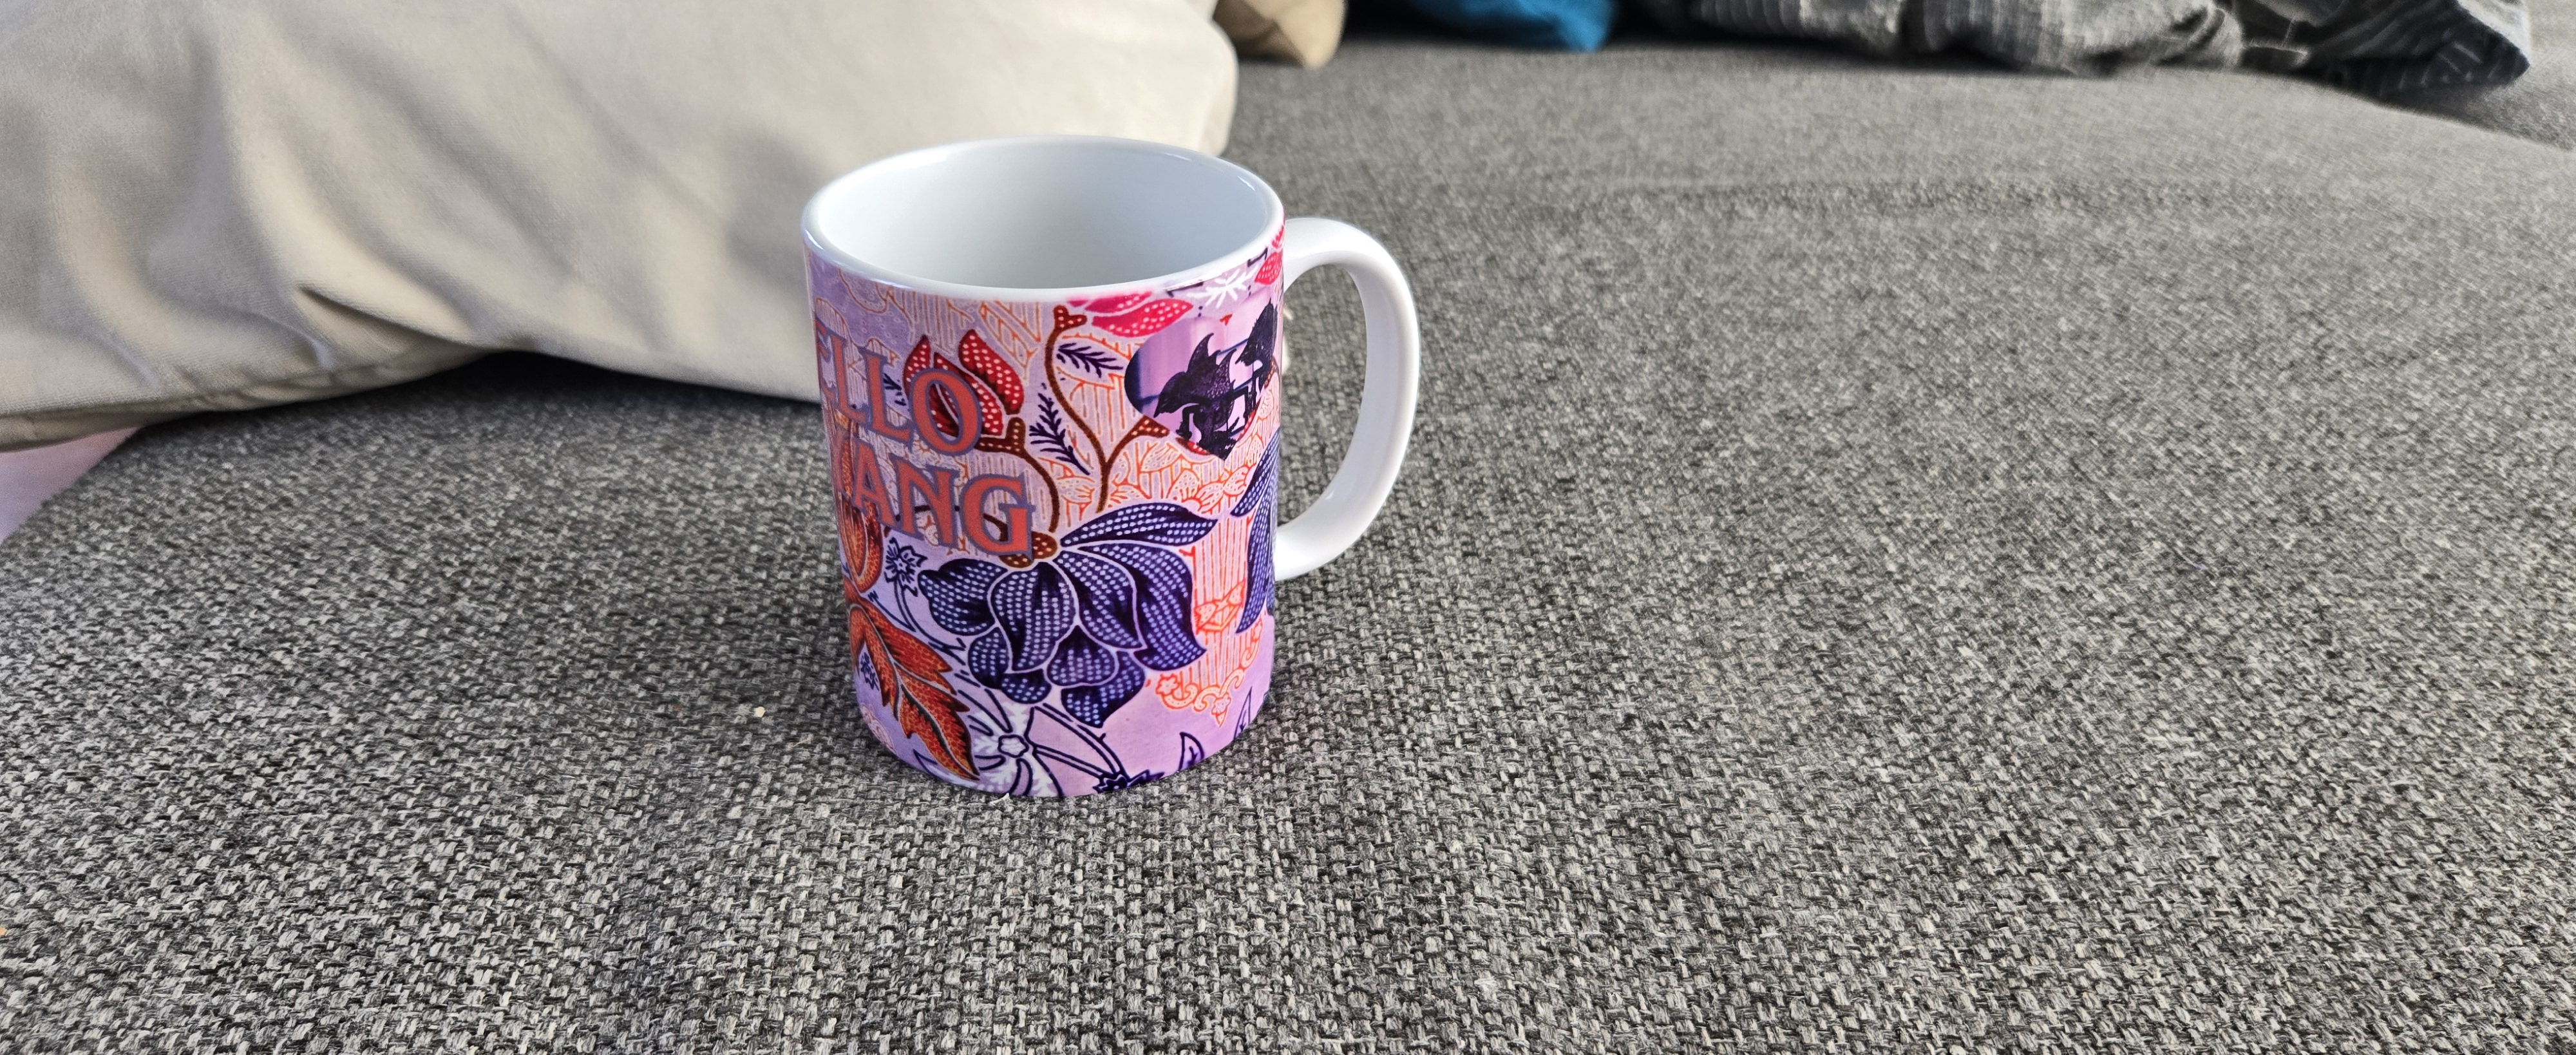mok: (731, 82, 1464, 850)
